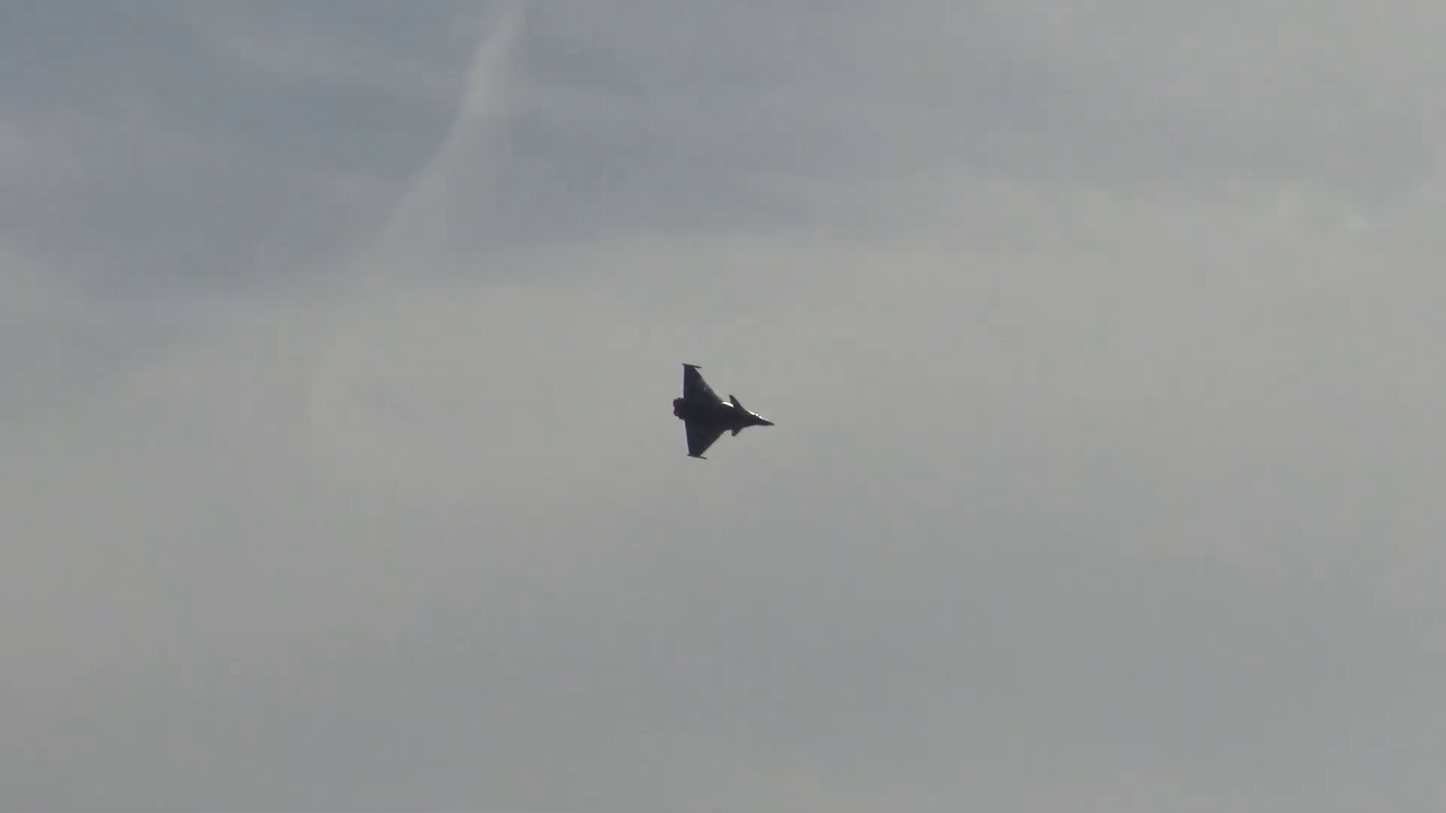Rafale: (672, 360, 779, 460)
